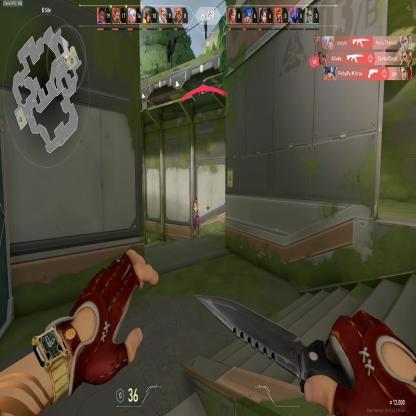enemy: (192, 196, 200, 238)
